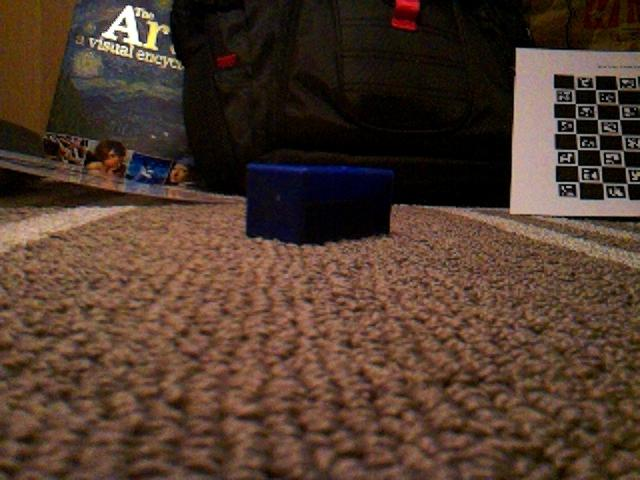blue: (243, 160, 396, 246)
